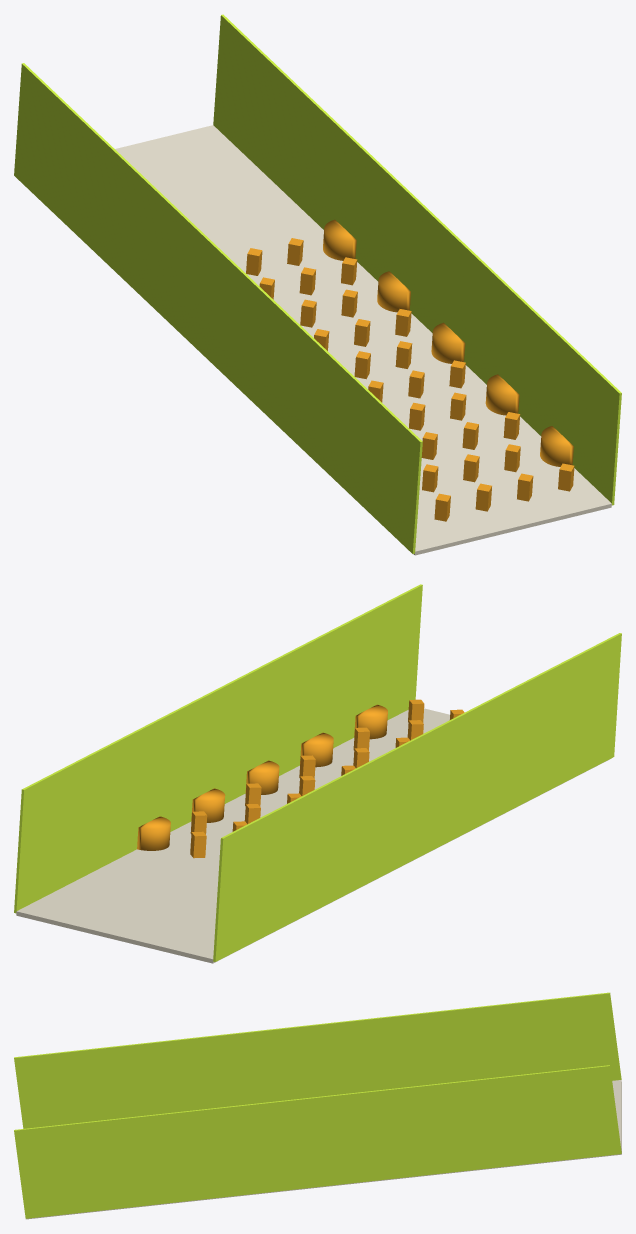
Rendered from visuals.glb.
3 renders of one model, top to bottom at view 1: azimuth 30°, elevation 25°; view 2: azimuth 150°, elevation 25°; view 3: azimuth 270°, elevation 25°, orthographic. The views are drawn at different scales.
Visible parts, largest first — view 1: rail-left, rail-right, floor, rail-bumper-4, rail-bumper-6, rail-bumper-2, rail-bumper-0, rail-bumper-8; view 2: rail-left, rail-right, floor, rail-bumper-0, rail-bumper-4, rail-bumper-6, rail-bumper-2, rail-bumper-8; view 3: rail-right, rail-left, floor.
Boxes of the visible parts, x1,y1,x2,y2 form: rail-left: (14, 63, 422, 553); rail-right: (213, 14, 621, 505); floor: (115, 125, 611, 555); rail-bumper-4: (431, 322, 465, 363); rail-bumper-6: (485, 374, 519, 415); rail-bumper-2: (377, 271, 410, 312); rail-bumper-0: (323, 219, 356, 260); rail-bumper-8: (540, 426, 573, 466); rail-left: (213, 633, 621, 961); rail-right: (14, 584, 422, 913); floor: (16, 708, 609, 963); rail-bumper-0: (137, 816, 170, 850); rail-bumper-4: (245, 760, 279, 794); rail-bumper-6: (300, 732, 333, 767); rail-bumper-2: (191, 788, 225, 822); rail-bumper-8: (354, 704, 387, 739); rail-right: (14, 1065, 621, 1218); rail-left: (14, 992, 621, 1128); floor: (26, 1080, 621, 1219).
Bounding box in the file's own units: 0.512 × 0.5015 × 1.79.
